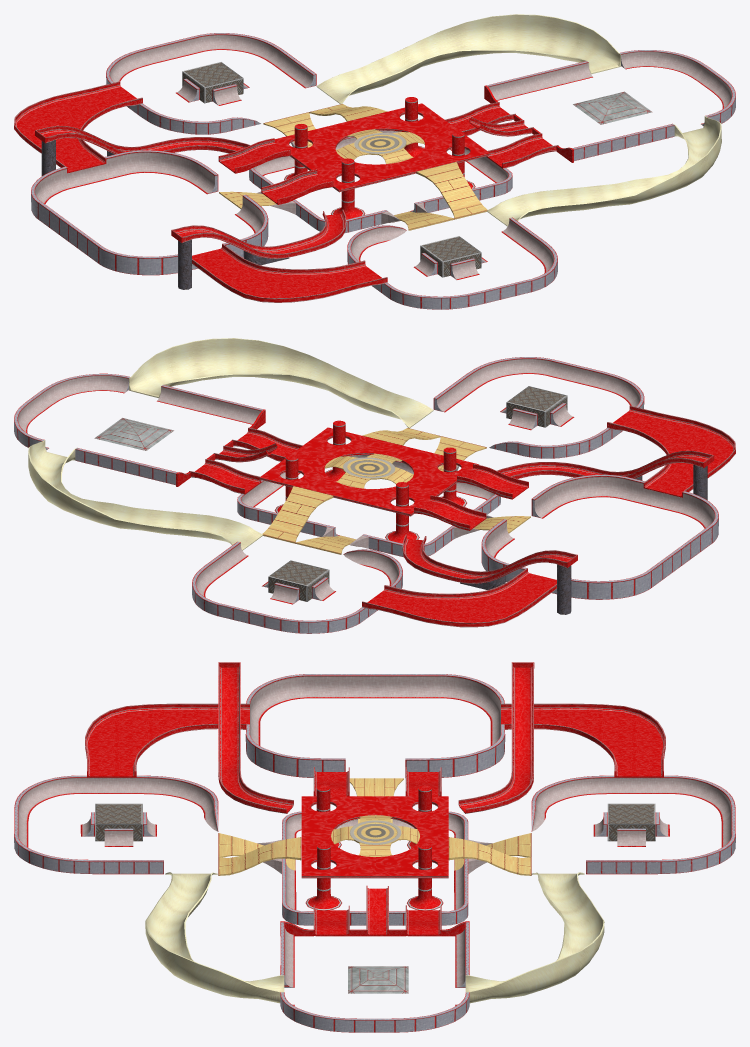
File: arena.fbx
3 renders of one model, top to bottom at view 1: azimuth 30°, elevation 25°; view 2: azimuth 150°, elevation 25°; view 3: azimuth 270°, elevation 25°, orthographic. The views are drawn at different scales.
Parts seen in each view (by area): view 1: left_pipe, front_quarter, center_2nd_floor, right_pipe, right_bridge, left_quarter, left_bridge, right_quarter, back_ramps, right_ramps, back_quarter_c, right_ramp (+19 smaller); view 2: right_pipe, front_quarter, center_2nd_floor, left_pipe, left_bridge, right_quarter, right_bridge, left_quarter, back_ramps, left_ramps, back_quarter_c, left_ramp (+19 smaller); view 3: front_quarter, center_2nd_floor, left_quarter, right_quarter, right_bridge, left_bridge, right_pipe, left_pipe, back_ramps, left_ramp, right_ramp, back_quarter_c (+14 smaller).
Boxes of the visible parts, x1=… form: left_pipe: x1=316, y1=14, x2=621, y2=104; front_quarter: x1=31, y1=150, x2=268, y2=275; center_2nd_floor: x1=274, y1=103, x2=490, y2=192; right_pipe: x1=487, y1=116, x2=721, y2=226; right_bridge: x1=192, y1=243, x2=387, y2=302; left_quarter: x1=106, y1=33, x2=316, y2=134; left_bridge: x1=14, y1=81, x2=142, y2=173; right_quarter: x1=347, y1=217, x2=557, y2=309; back_ramps: x1=445, y1=85, x2=573, y2=168; right_ramps: x1=381, y1=162, x2=487, y2=230; back_quarter_c: x1=619, y1=50, x2=735, y2=126; right_ramp: x1=171, y1=209, x2=346, y2=258; right_pipe: x1=129, y1=338, x2=433, y2=428; front_quarter: x1=481, y1=474, x2=718, y2=599; center_2nd_floor: x1=259, y1=427, x2=479, y2=516; left_pipe: x1=28, y1=440, x2=263, y2=550; left_bridge: x1=362, y1=568, x2=556, y2=627; right_quarter: x1=433, y1=357, x2=644, y2=458; right_bridge: x1=607, y1=405, x2=735, y2=497; left_quarter: x1=192, y1=541, x2=402, y2=633; back_ramps: x1=176, y1=409, x2=302, y2=494; left_ramps: x1=262, y1=486, x2=368, y2=554; back_quarter_c: x1=14, y1=373, x2=130, y2=449; left_ramp: x1=402, y1=534, x2=577, y2=583; front_quarter: x1=245, y1=674, x2=505, y2=777; center_2nd_floor: x1=301, y1=796, x2=448, y2=878; left_quarter: x1=531, y1=775, x2=735, y2=874; right_quarter: x1=14, y1=775, x2=218, y2=874; right_bridge: x1=85, y1=703, x2=249, y2=777; left_bridge: x1=501, y1=703, x2=665, y2=777; right_pipe: x1=145, y1=872, x2=284, y2=1003; left_pipe: x1=465, y1=872, x2=604, y2=1003; back_ramps: x1=280, y1=885, x2=469, y2=936; left_ramp: x1=458, y1=662, x2=534, y2=813; right_ramp: x1=218, y1=662, x2=293, y2=813; back_quarter_c: x1=280, y1=992, x2=469, y2=1032.
Bounding box in the file's own units: 564 × 54.59 × 506.
